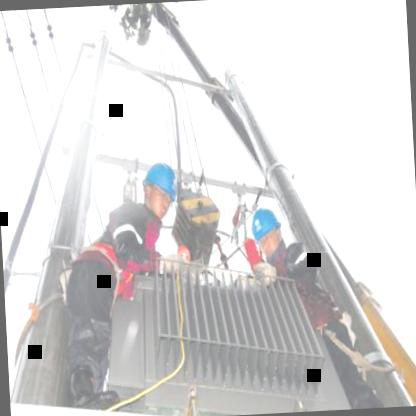helmet: (245, 193, 290, 272), (135, 153, 182, 226)
